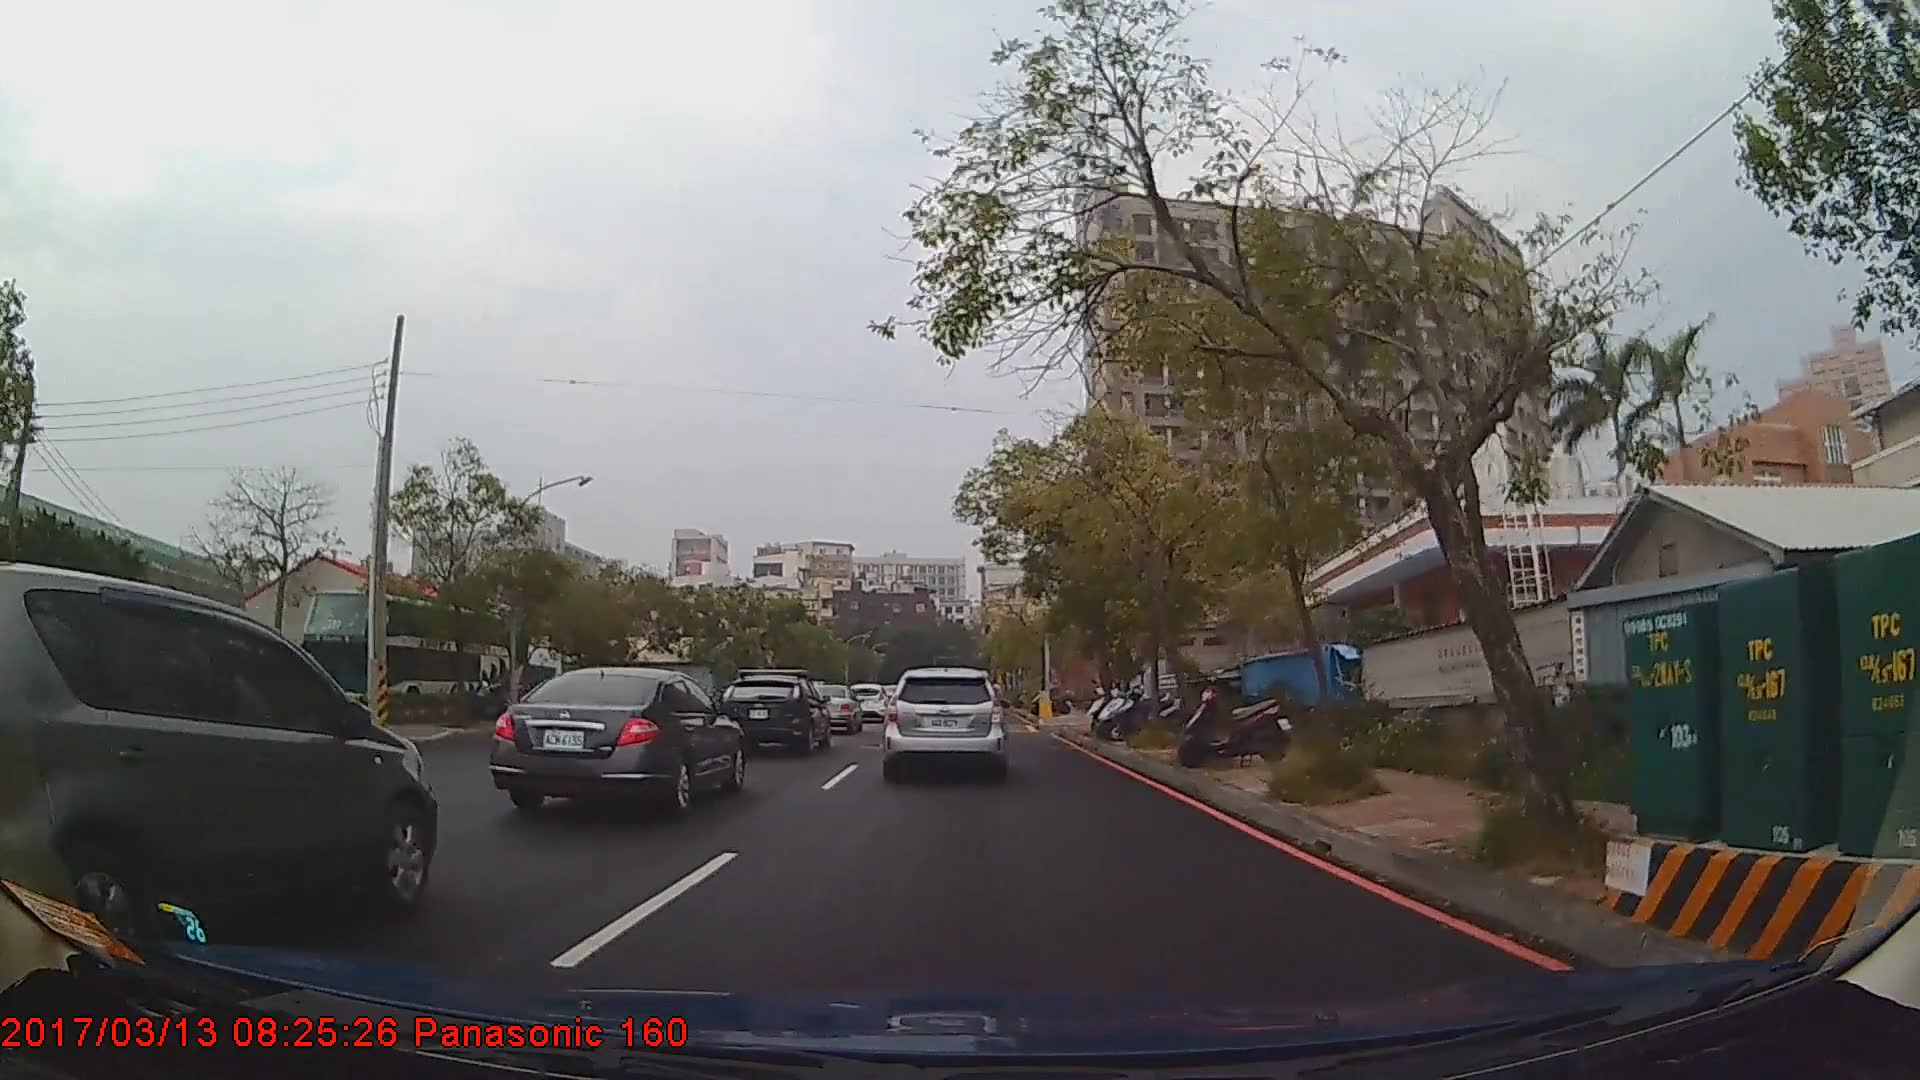vehicle: (0, 560, 435, 947), (488, 665, 746, 818), (301, 589, 509, 717), (882, 667, 1007, 781), (720, 669, 829, 756), (806, 684, 862, 736), (845, 683, 891, 723)
